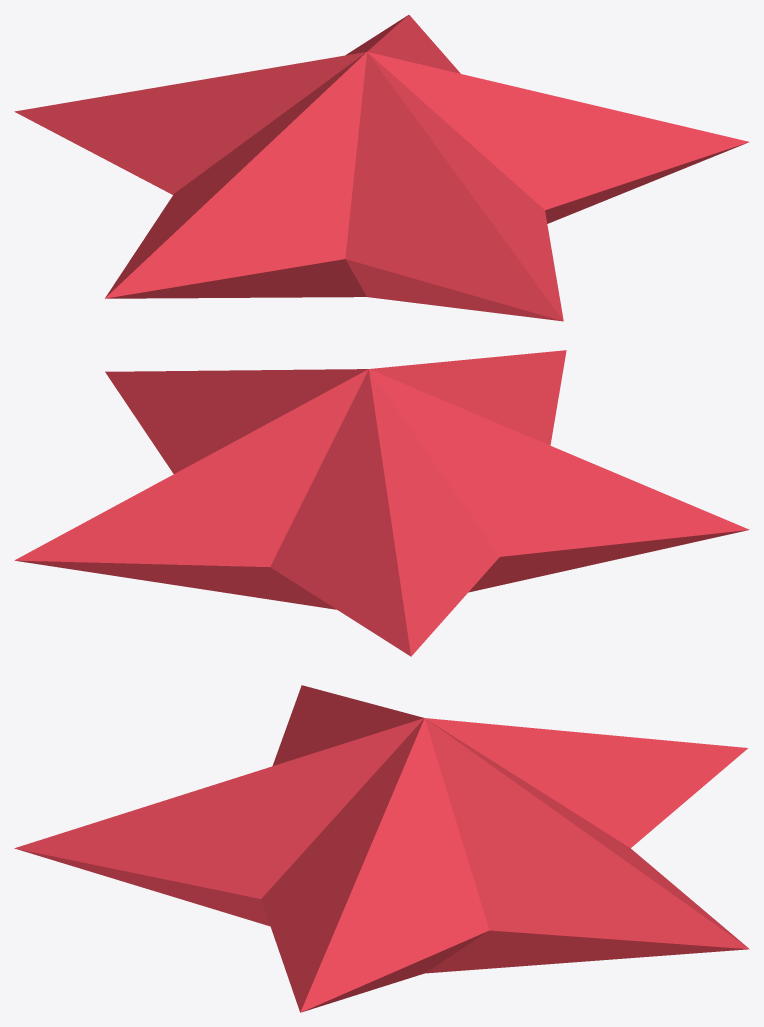
File: commie star.glb
3 views of the same model, one above another, from view 1: azimuth 30°, elevation 25°; view 2: azimuth 150°, elevation 25°; view 3: azimuth 270°, elevation 25° (orthographic). The views are drawn at different scales.
Parts seen in each view (by area): view 1: Circle; view 2: Circle; view 3: Circle.
Part boxes in pixels (x1,y1,x2,y2): Circle: (14,15,749,321); Circle: (14,350,749,656); Circle: (14,685,749,1012).
Size of the model in its own units: 3.8 by 1.38 by 3.6.
